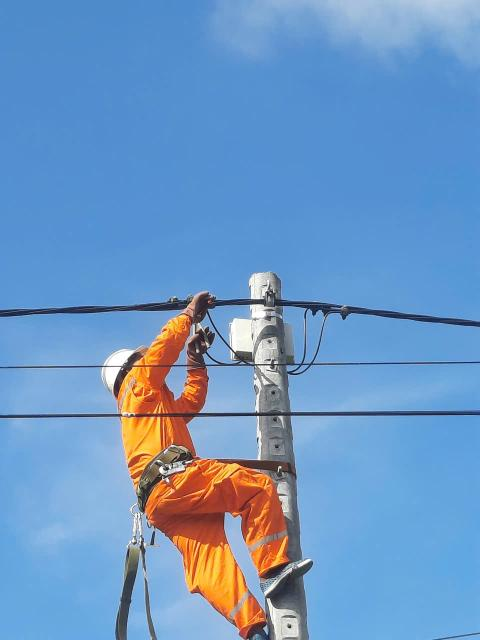gloves: (159, 289, 230, 324), (174, 322, 223, 361)
harness: (102, 439, 228, 510)
helmet: (94, 347, 155, 395)
shoes: (259, 552, 322, 592)
